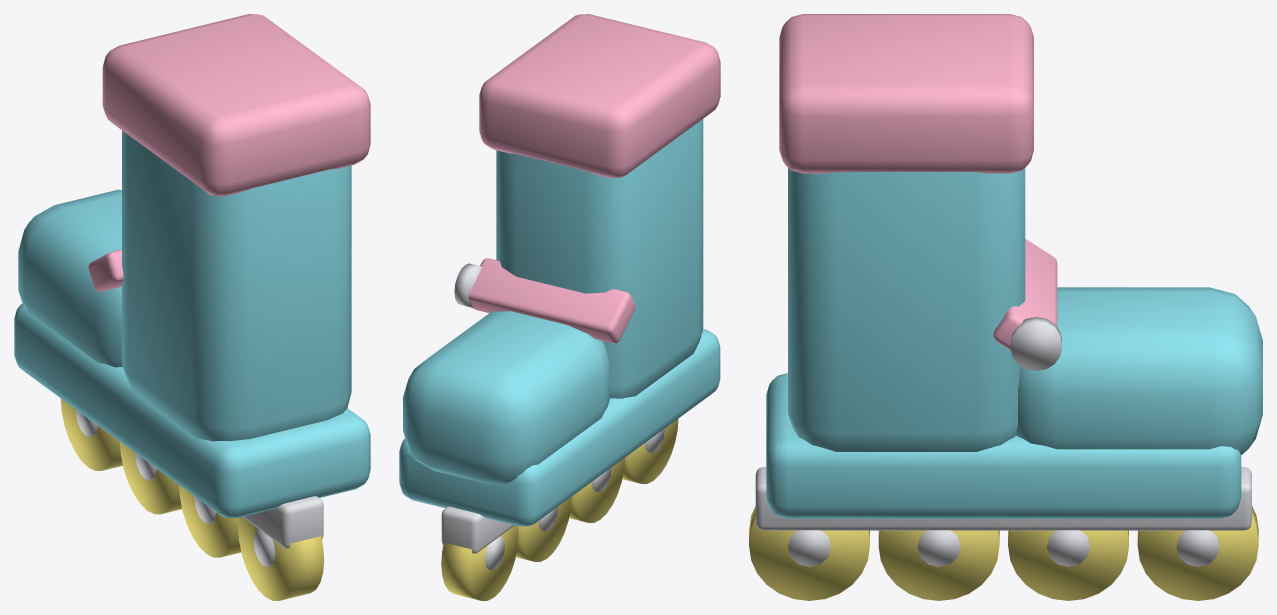
File: ITEM_Skates.fbx
The picture shows the model from 3 angles, left to right: view 1: azimuth 30°, elevation 25°; view 2: azimuth 150°, elevation 25°; view 3: azimuth 270°, elevation 25°; orthographic projection. The views are drawn at different scales.
Parts seen in each view (by area): view 1: ITEM_Skates; view 2: ITEM_Skates; view 3: ITEM_Skates.
Boxes of the visible parts, x1,y1,x2,y2 form: ITEM_Skates: [14, 14, 370, 600]; ITEM_Skates: [399, 14, 720, 600]; ITEM_Skates: [749, 14, 1262, 600].
Size of the model in its own units: 10.2 by 27.7 by 23.8.
